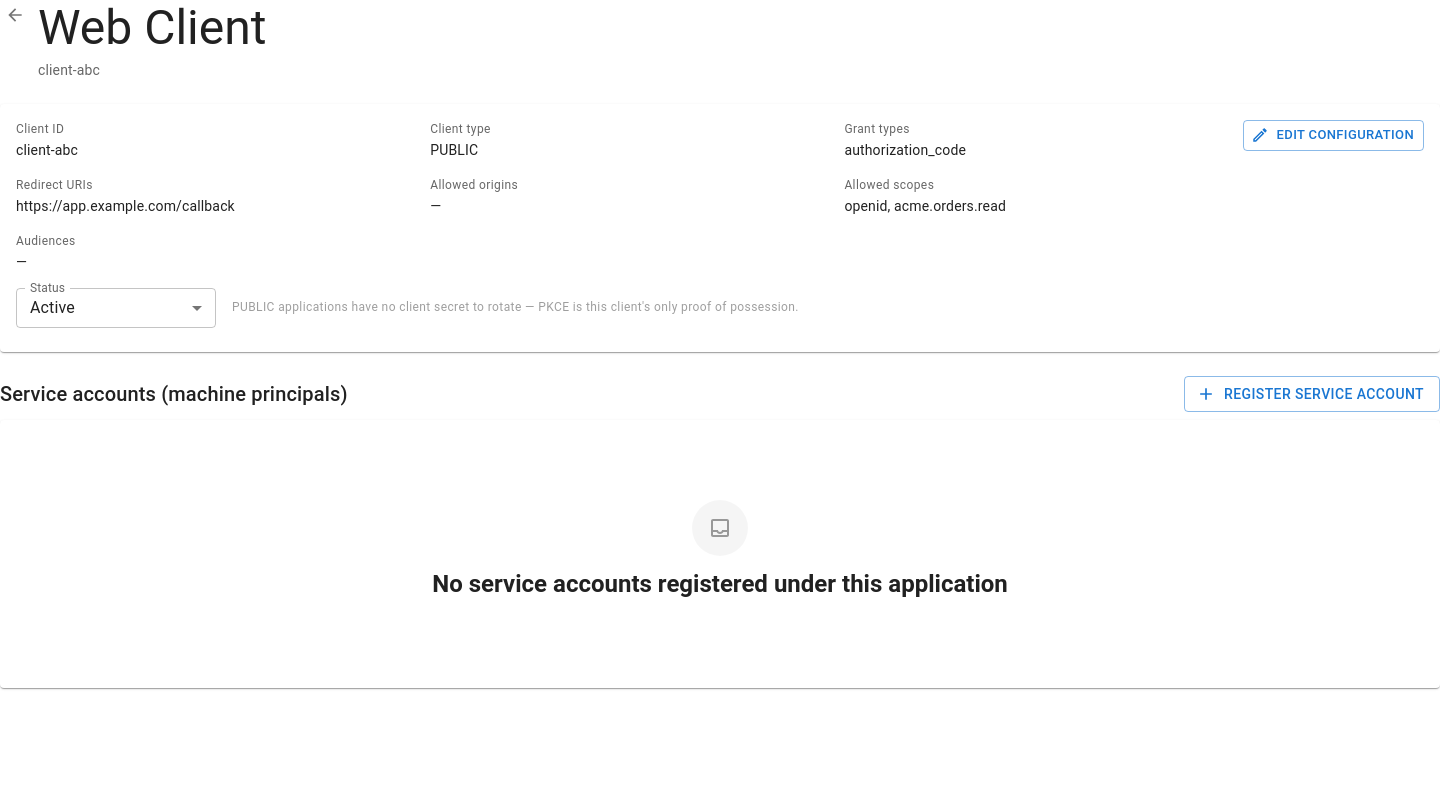
PlatformApplicationDetailPage — configuration editing › disables client_credentials for a PUBLIC client, matching the create form's own rule
Check: the heading "Web Client" is shown, box [38, 0, 266, 56]
Click the button "Edit configuration".
click(1333, 135)  # box [1243, 120, 1424, 151]
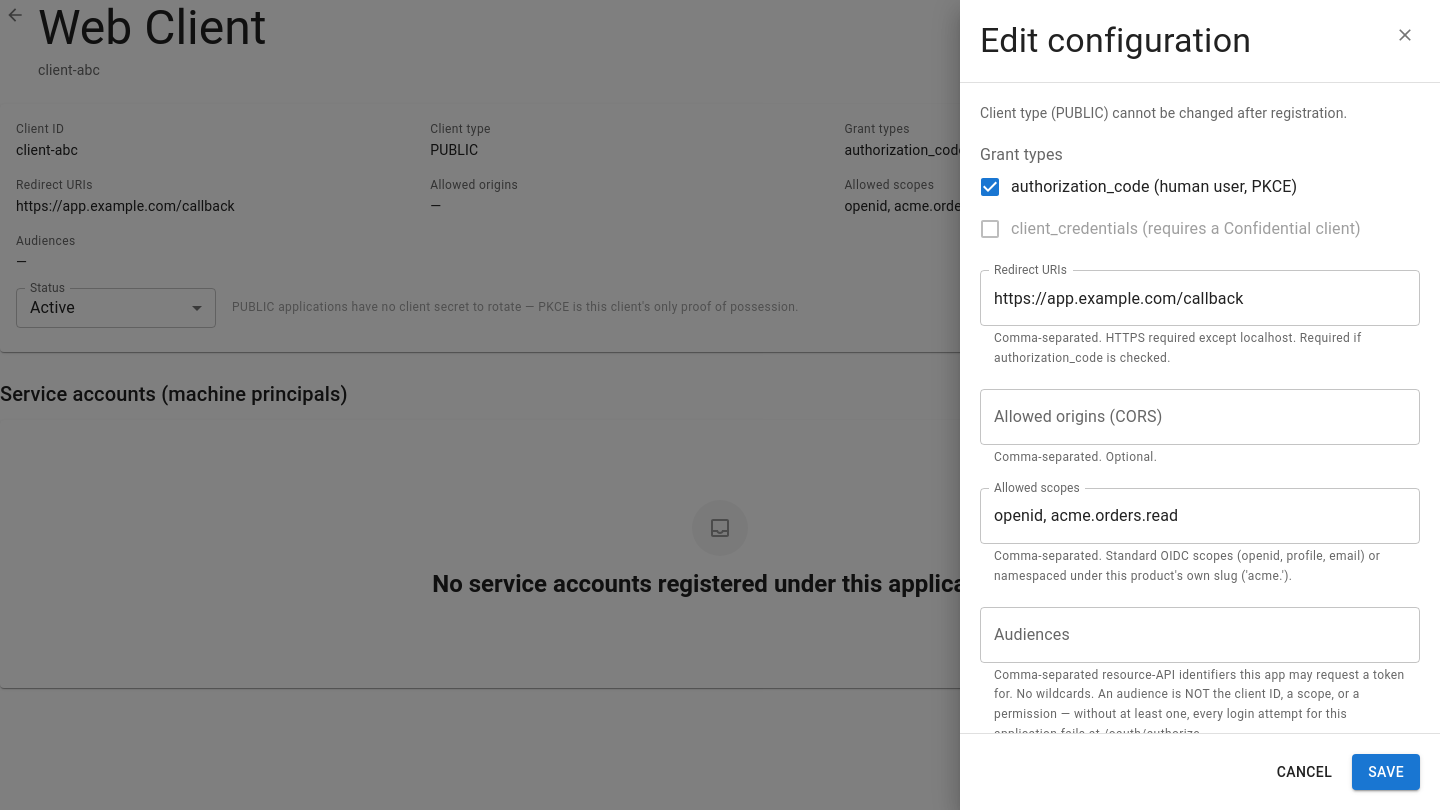
Check: the checkbox labelled "client_credentials (requires a Confidential client)" is disabled, box [978, 217, 1361, 241]
